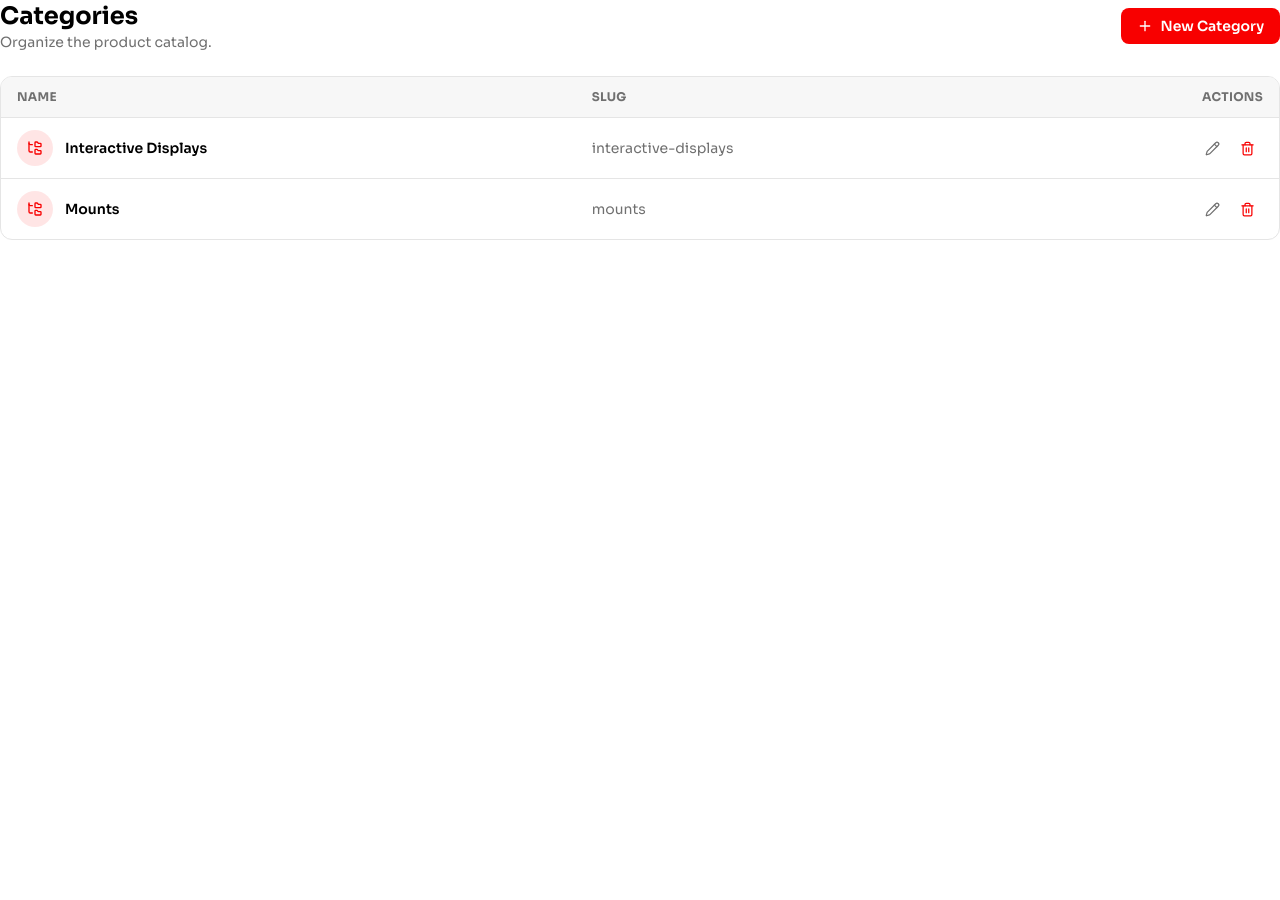
Test: Admin Categories › deletes a category after confirming, removes the row, and shows a success toast
Expected: the text "Mounts" is shown, [65, 199, 120, 219]
Step 1. Click the 2nd button titled "Delete" → (1248, 209), box [1232, 194, 1263, 224]
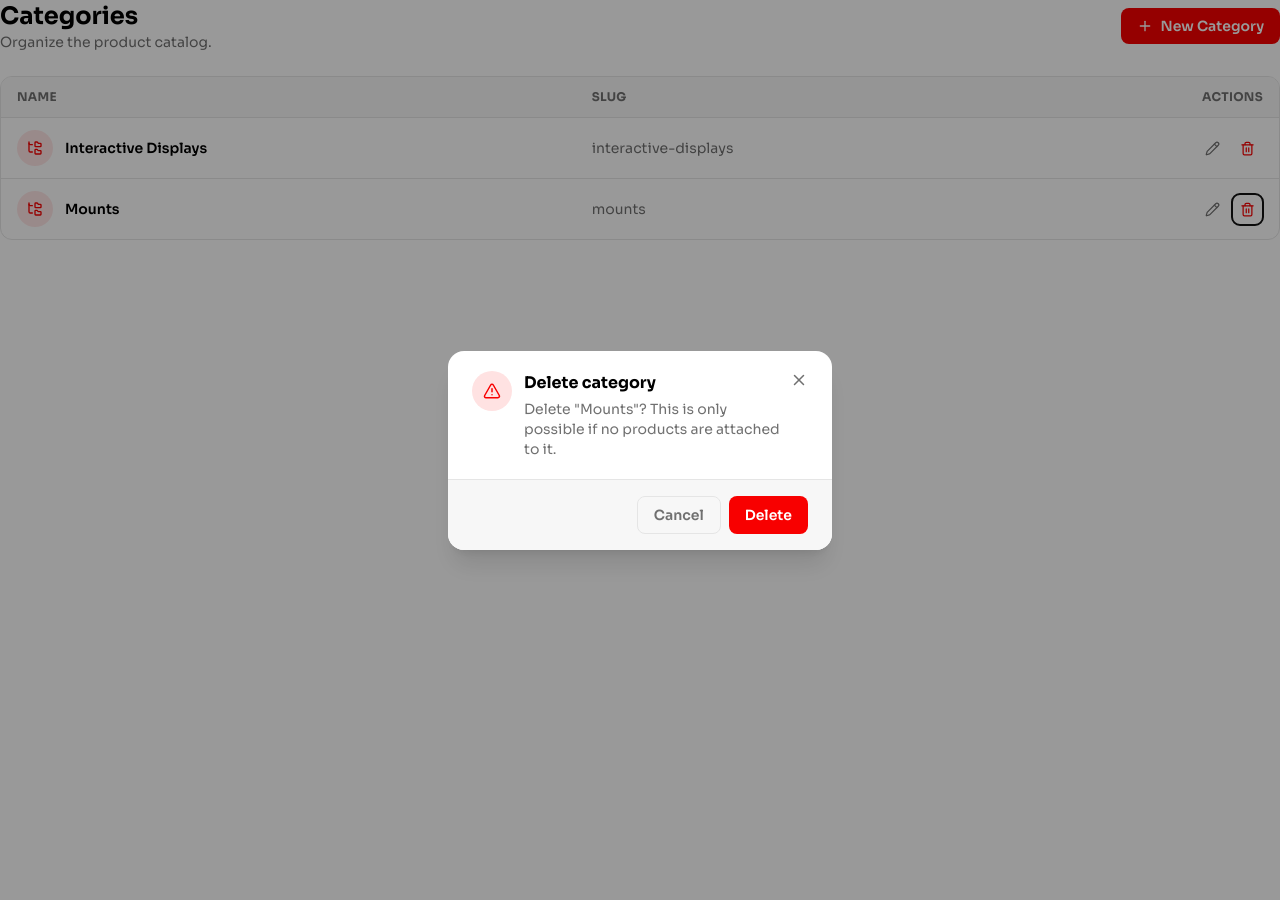
Step 2. Click the button "Delete" → (768, 514), box [729, 496, 808, 534]
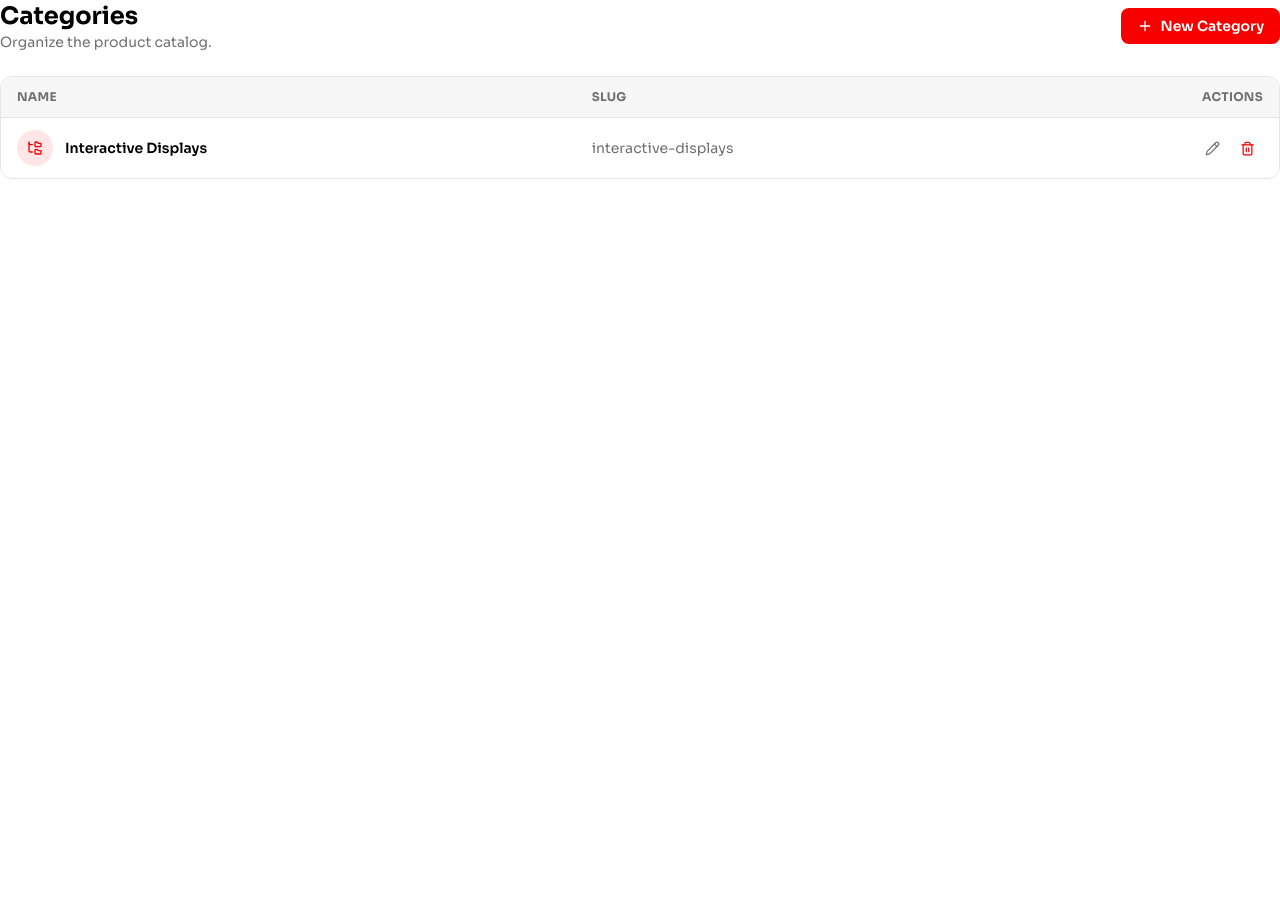
Result: the text "Mounts" is gone
